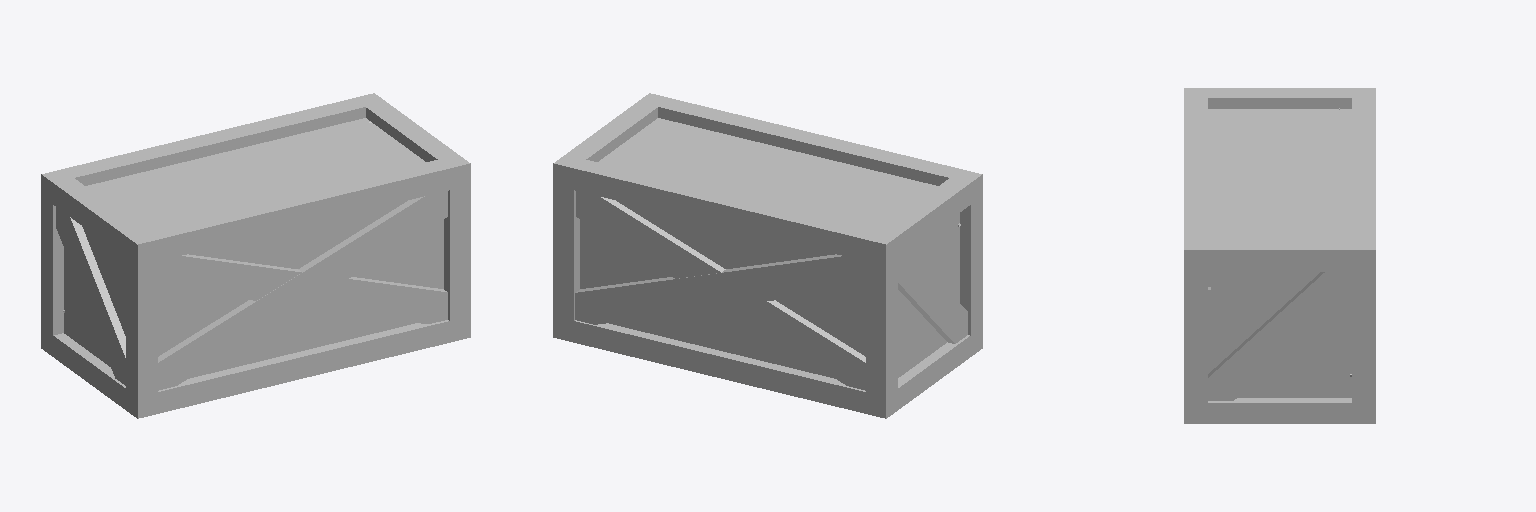
File: 578_large_crate.obj
3 renders of one model, left to right at view 1: azimuth 30°, elevation 25°; view 2: azimuth 150°, elevation 25°; view 3: azimuth 270°, elevation 25°, orthographic.
Visible parts, largest first — view 1: Cratebody2, BlockA, Diagonal3, BlockB, Diagonal4, BlockC, BlockE, Diagonal2, BlockD, BlockF; view 2: Cratebody2, BlockA, Diagonal4, Diagonal3, BlockB, BlockC, BlockE, Diagonal2, BlockD, BlockF; view 3: Cratebody2, BlockA, BlockE, Diagonal1, BlockD, BlockF, BlockB.
Boxes of the visible parts, x1,y1,x2,y2 form: Cratebody2: [64, 118, 443, 378]; BlockA: [41, 93, 470, 265]; Diagonal3: [63, 191, 447, 390]; BlockB: [41, 316, 470, 418]; Diagonal4: [158, 254, 447, 323]; BlockC: [41, 196, 157, 396]; BlockE: [53, 102, 457, 257]; Diagonal2: [56, 207, 125, 385]; BlockD: [444, 185, 470, 320]; BlockF: [53, 333, 125, 409]; Cratebody2: [580, 118, 959, 378]; BlockA: [553, 93, 982, 265]; Diagonal4: [575, 223, 960, 324]; Diagonal3: [576, 191, 865, 390]; BlockB: [553, 316, 982, 418]; BlockC: [866, 196, 982, 396]; BlockE: [566, 102, 970, 257]; Diagonal2: [898, 250, 967, 343]; BlockD: [553, 185, 579, 320]; BlockF: [898, 335, 970, 409]; Cratebody2: [1208, 109, 1351, 397]; BlockA: [1184, 88, 1375, 271]; BlockE: [1208, 88, 1351, 271]; Diagonal1: [1208, 272, 1351, 400]; BlockD: [1184, 272, 1375, 402]; BlockF: [1208, 398, 1351, 423]; BlockB: [1184, 403, 1375, 423].
Bounding box in the file's own units: 2 × 1 × 1.